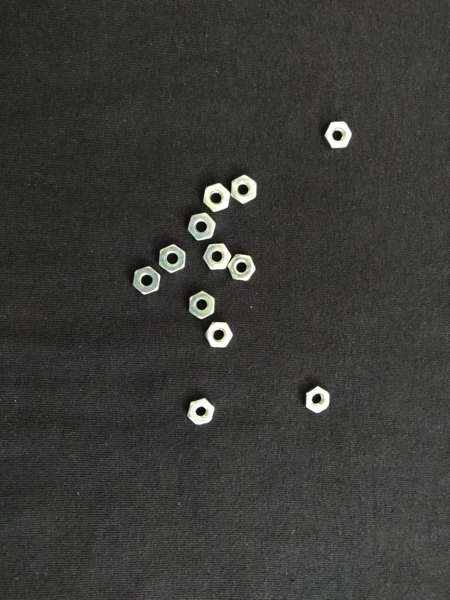nut: (322, 120, 354, 150), (132, 266, 162, 296), (201, 242, 232, 271), (158, 243, 187, 274), (202, 182, 231, 212), (230, 174, 258, 205), (186, 213, 218, 240), (186, 397, 215, 426), (204, 321, 234, 349), (303, 385, 331, 415), (227, 253, 256, 281), (189, 290, 216, 320)
